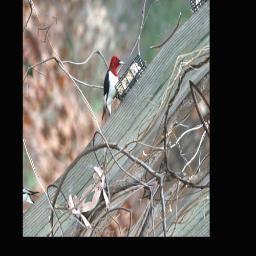Woodpecker: (83, 44, 140, 129)
